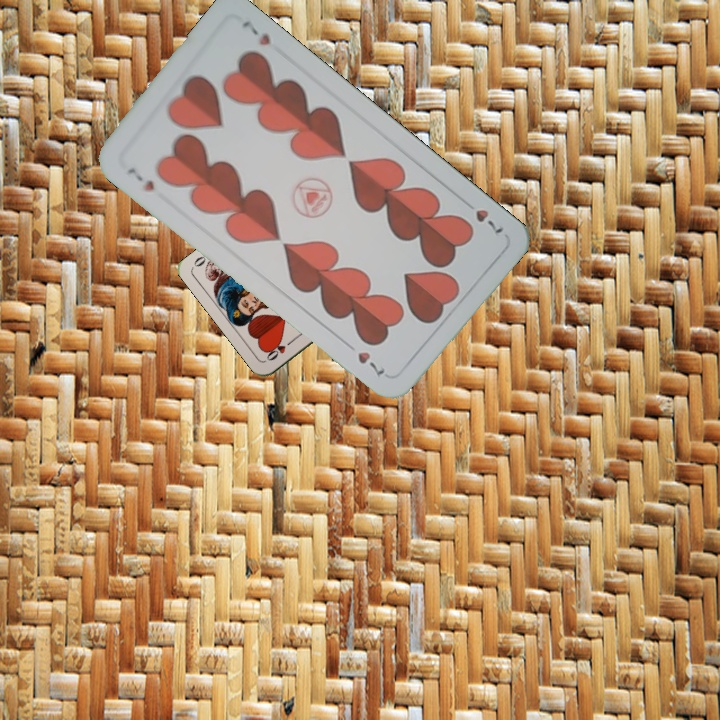H7: (458, 195, 506, 239), (123, 163, 157, 195)
HO: (262, 334, 297, 364)
